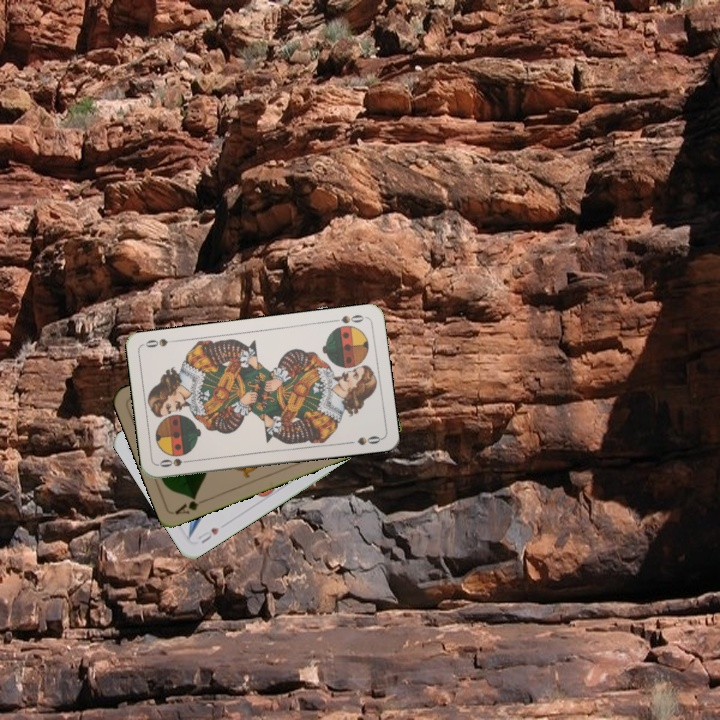GA: (172, 492, 211, 517)
HU: (194, 523, 222, 546)
SO: (155, 454, 196, 470), (327, 311, 368, 326)
